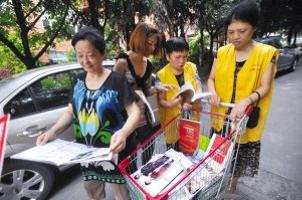person: (209, 2, 281, 193)
